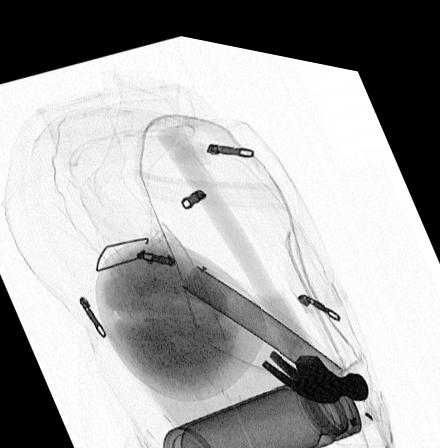Hammer: (158, 118, 368, 390)
